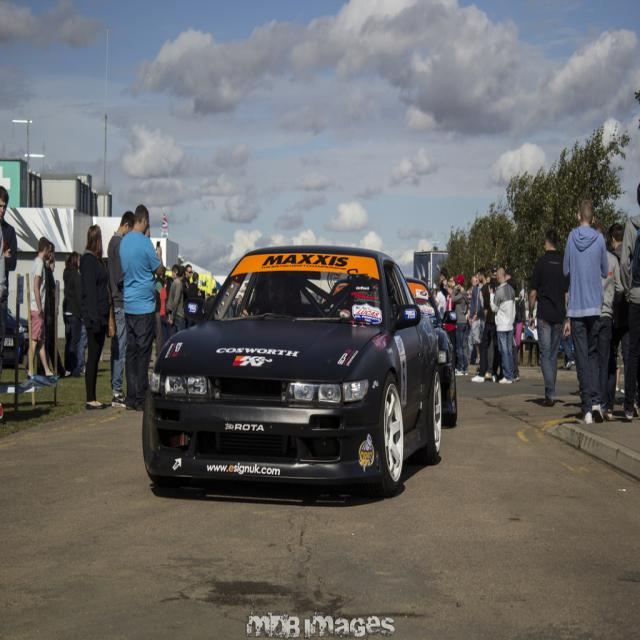car: (140, 242, 440, 497)
